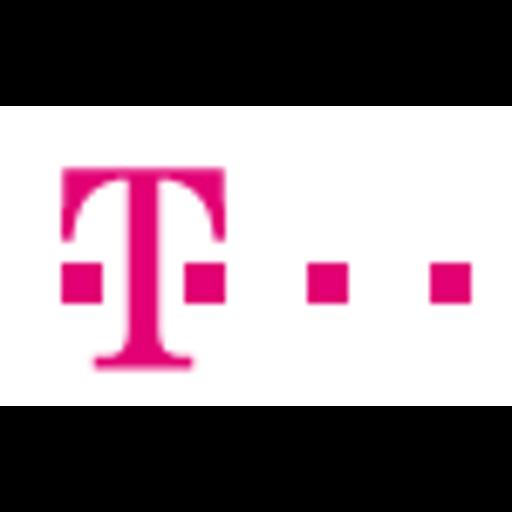Deutsche Telekom: (0, 106, 512, 406)
